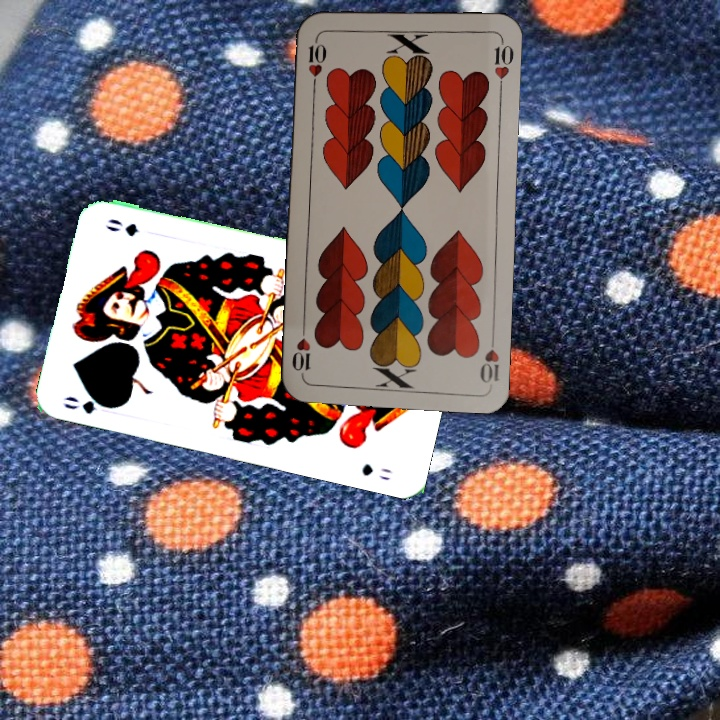GO: (59, 390, 119, 417)
H10: (476, 328, 502, 386), (304, 31, 328, 90)
